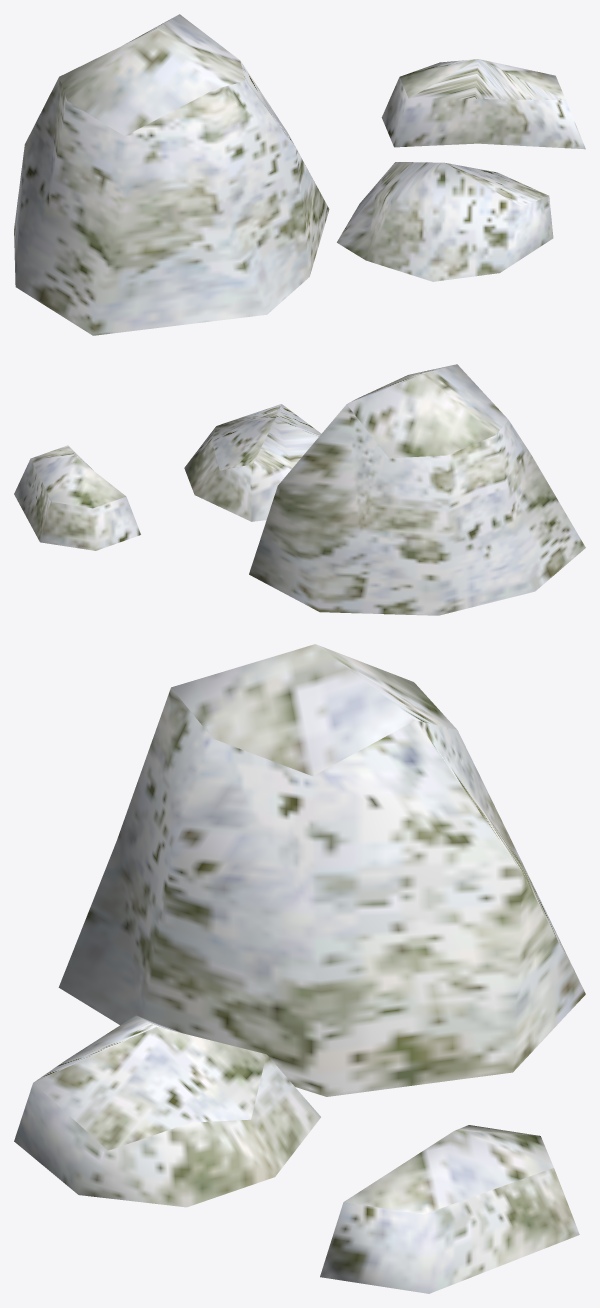
Rendered from Environment - Prop - Rocks 8 - PMRocks08.glb.
3 views of the same model, one above another, from view 1: azimuth 30°, elevation 25°; view 2: azimuth 150°, elevation 25°; view 3: azimuth 270°, elevation 25° (orthographic). The views are drawn at different scales.
Parts seen in each view (by area): view 1: PMROCKS08; view 2: PMROCKS08; view 3: PMROCKS08.
Boxes of the visible parts, x1=… form: PMROCKS08: x1=14, y1=14, x2=585, y2=335; PMROCKS08: x1=14, y1=364, x2=585, y2=615; PMROCKS08: x1=14, y1=644, x2=585, y2=1293.
Size of the model in its own units: 46.25 by 16.88 by 26.66.
Materials: 1 (1 with a texture image).
